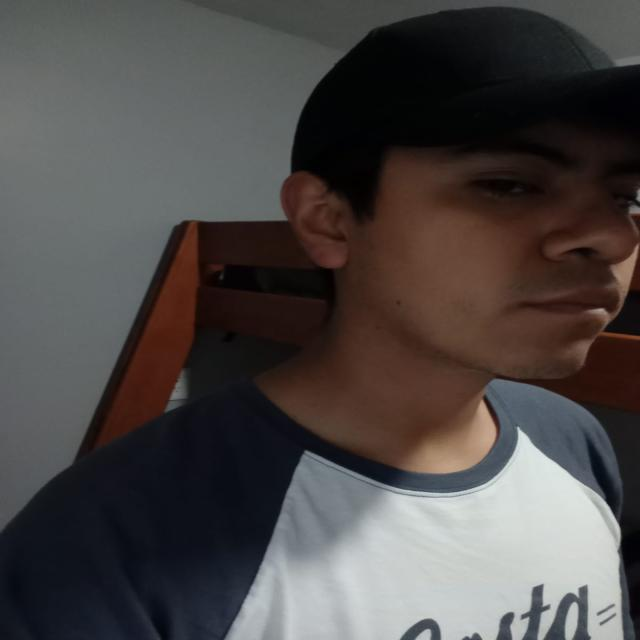ear: (282, 171, 363, 270)
